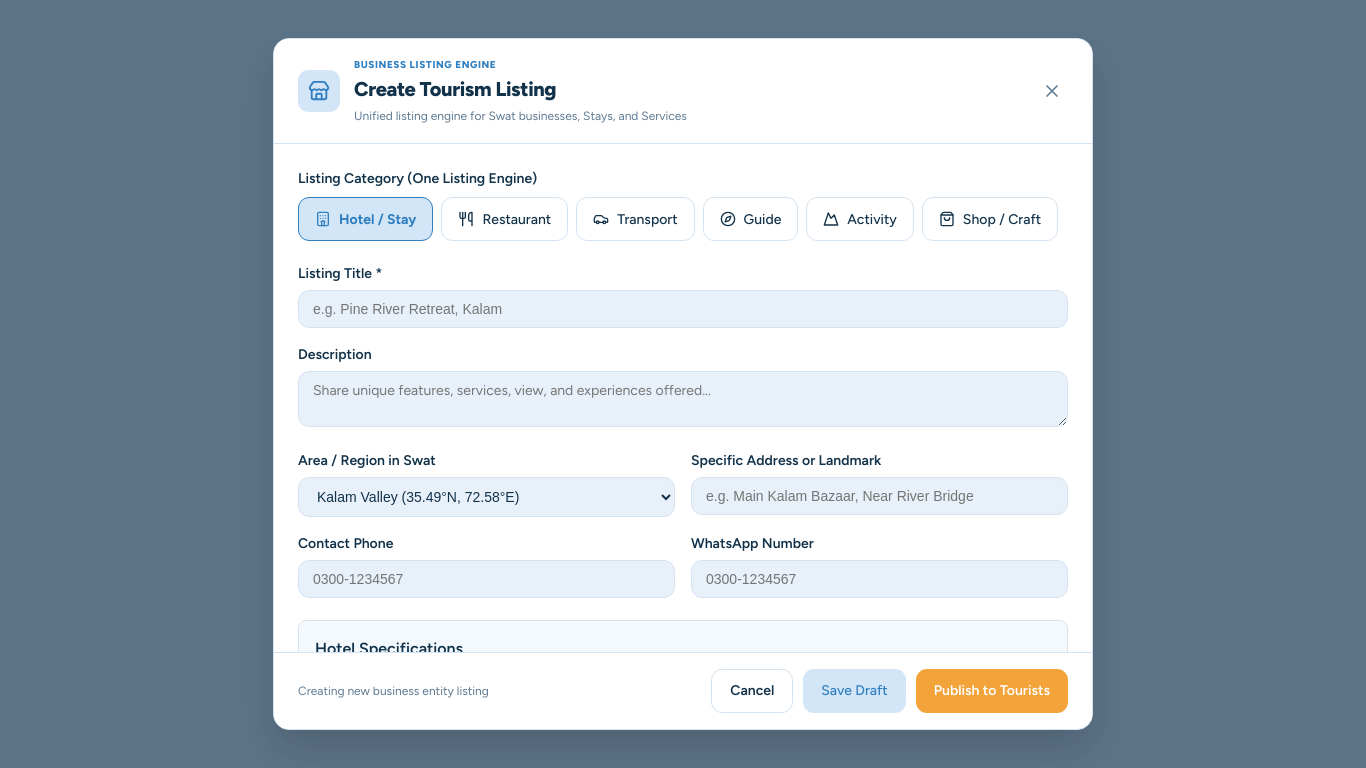
Test: Step 2: Listing Engine & Builder Verification › dynamically adapts form fields when switching between listing types
Expected: the heading "Hotel Specifications" is shown, [315, 639, 463, 652]
Note: Switch to Restaurant
Click the button with test id "type-btn-restaurant" at (505, 219), box [441, 197, 568, 241]
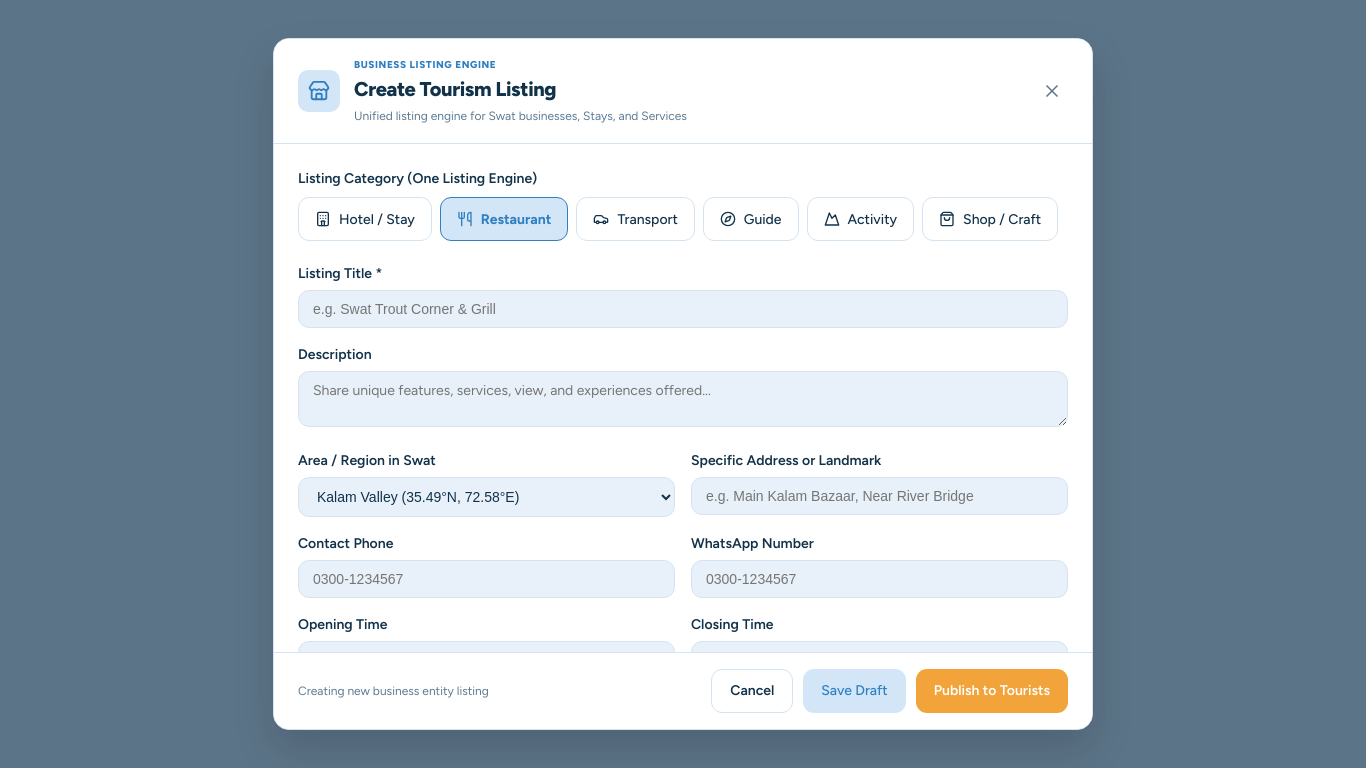
Note: Switch to Transport
Click the button with test id "type-btn-transport" at (636, 219), box [576, 197, 695, 241]
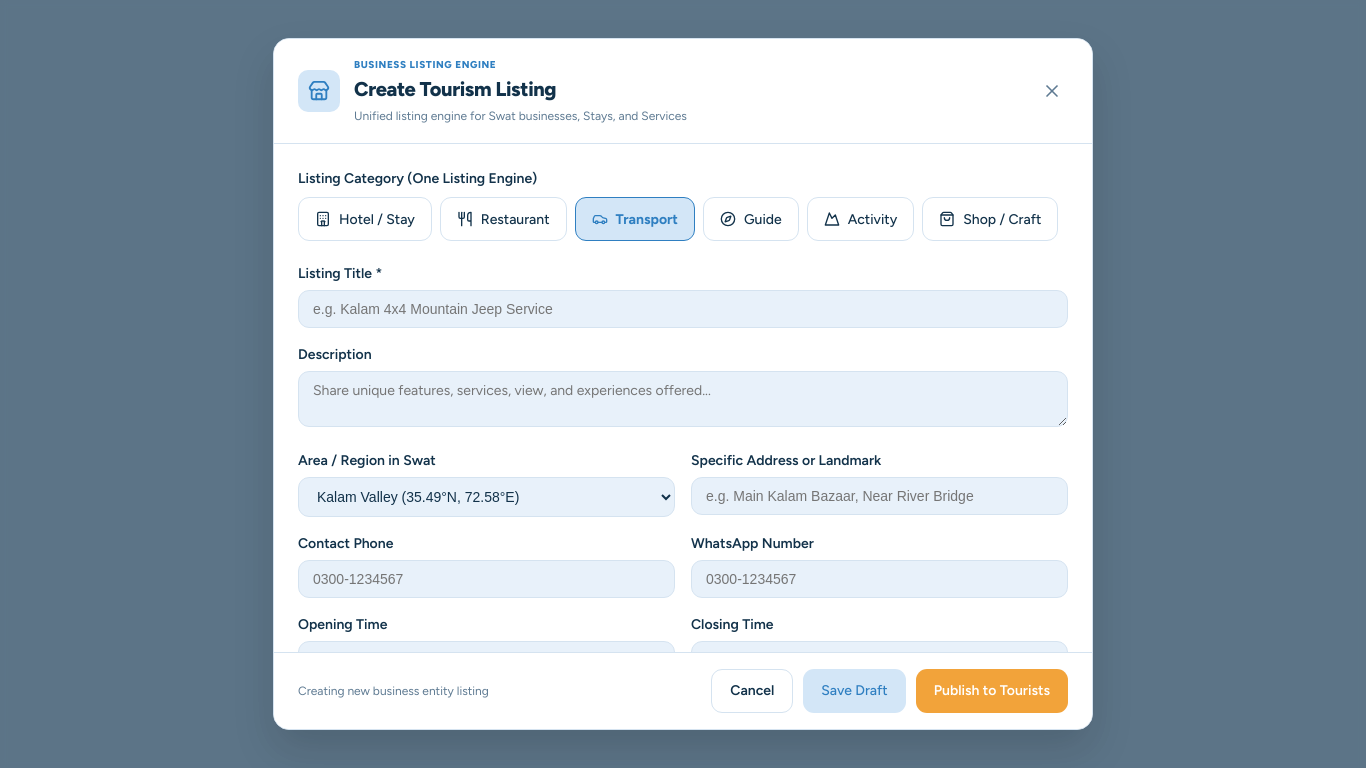
Note: Switch to Guide
Click the button with test id "type-btn-guide" at (751, 219), box [703, 197, 799, 241]
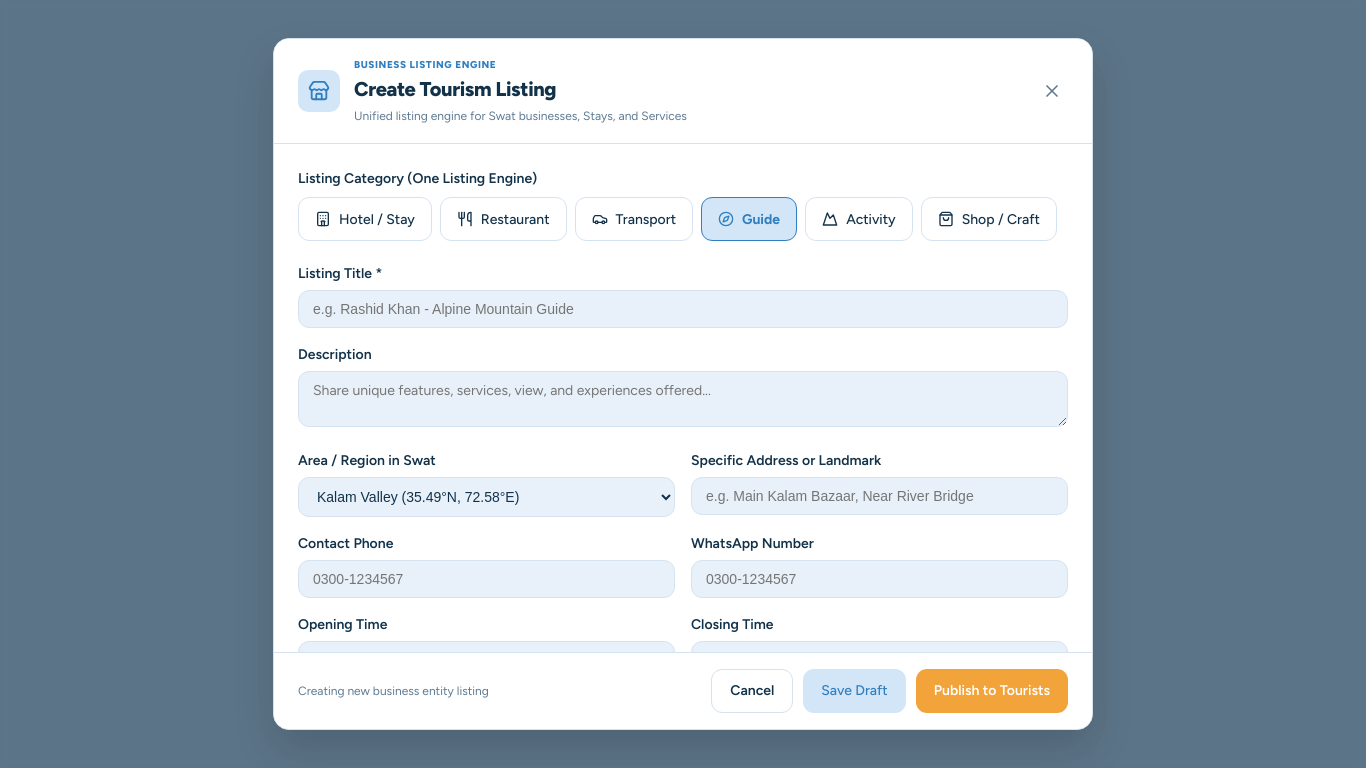
Note: Switch to Activity
Click the button with test id "type-btn-activity" at (859, 219), box [805, 197, 913, 241]
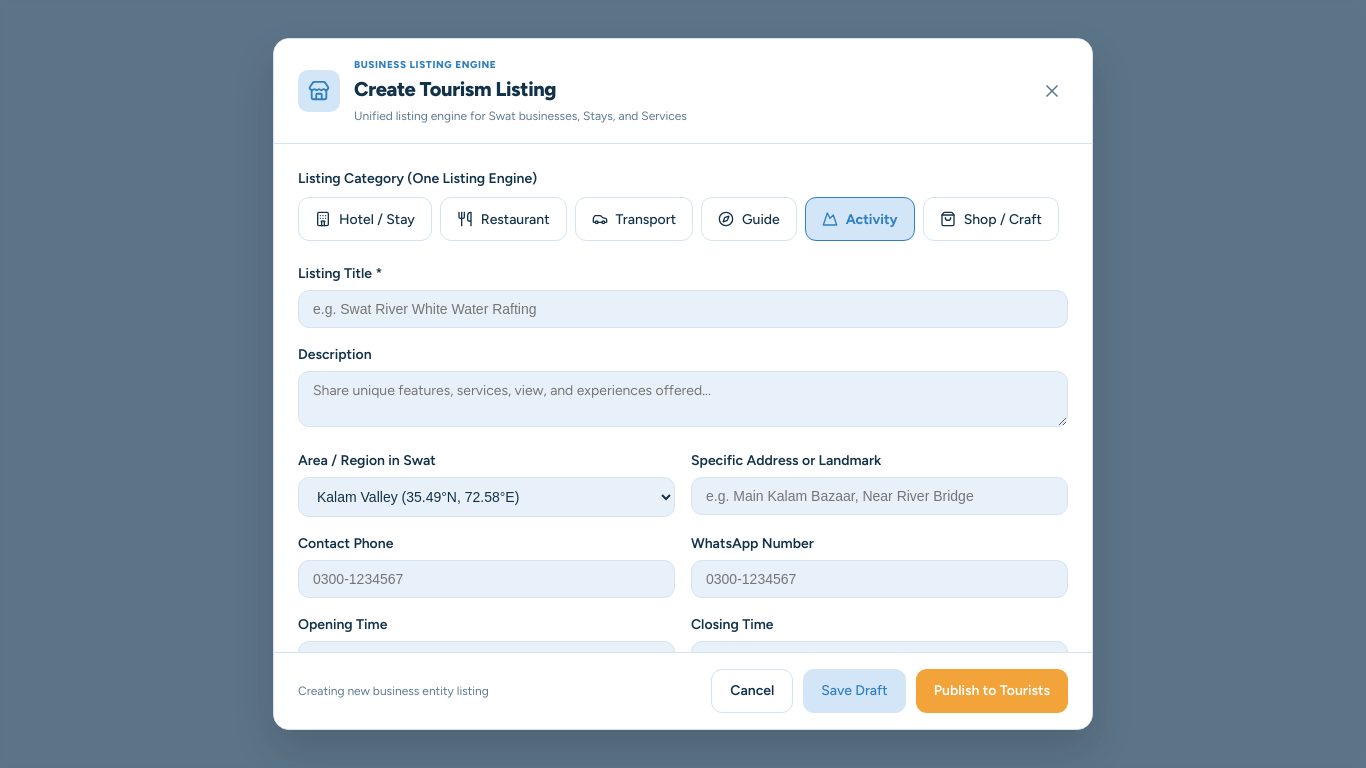
Note: Switch to Shop
Click the button with test id "type-btn-shop" at (991, 219), box [923, 197, 1059, 241]
(page scrolled)
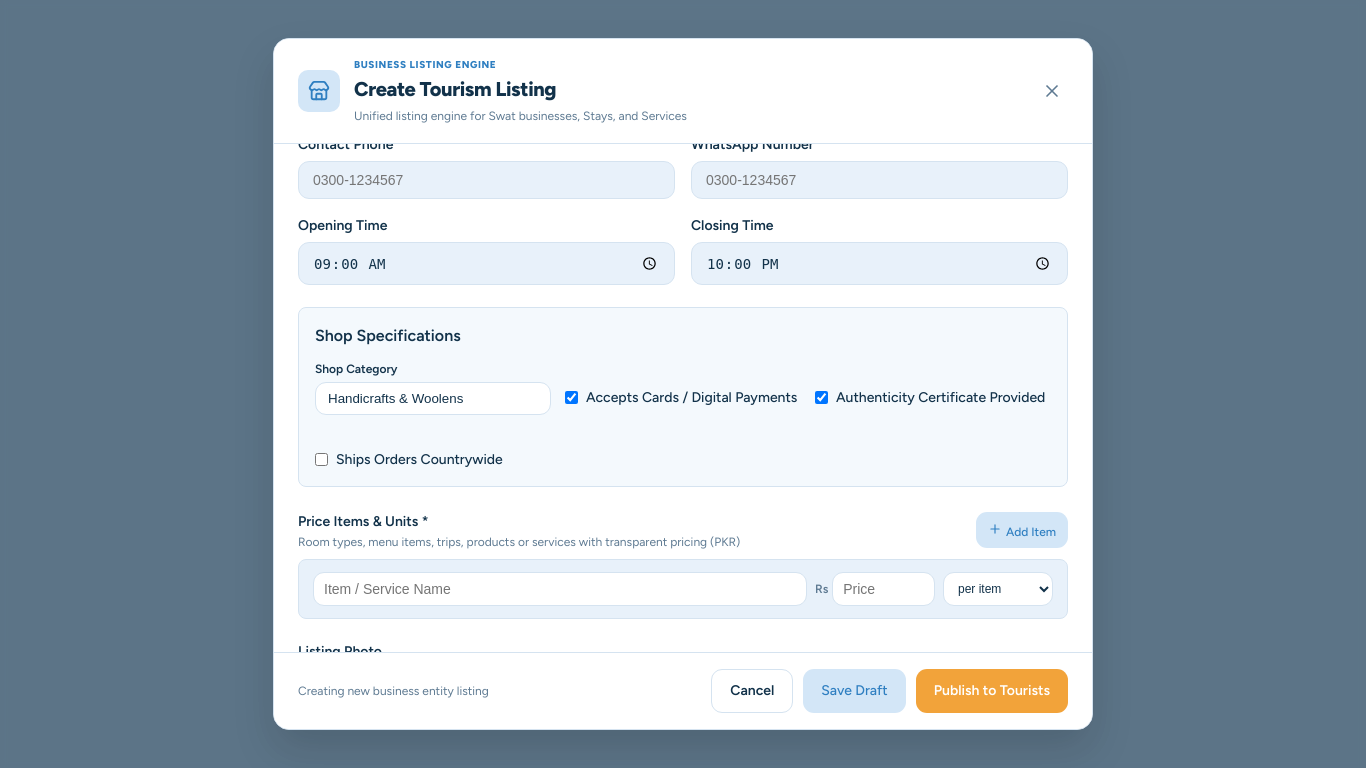
Expected: the heading "Shop Specifications" is shown, [315, 326, 461, 345]
Expected: the text "Authenticity Certificate Provided" is shown, [836, 387, 1045, 408]
